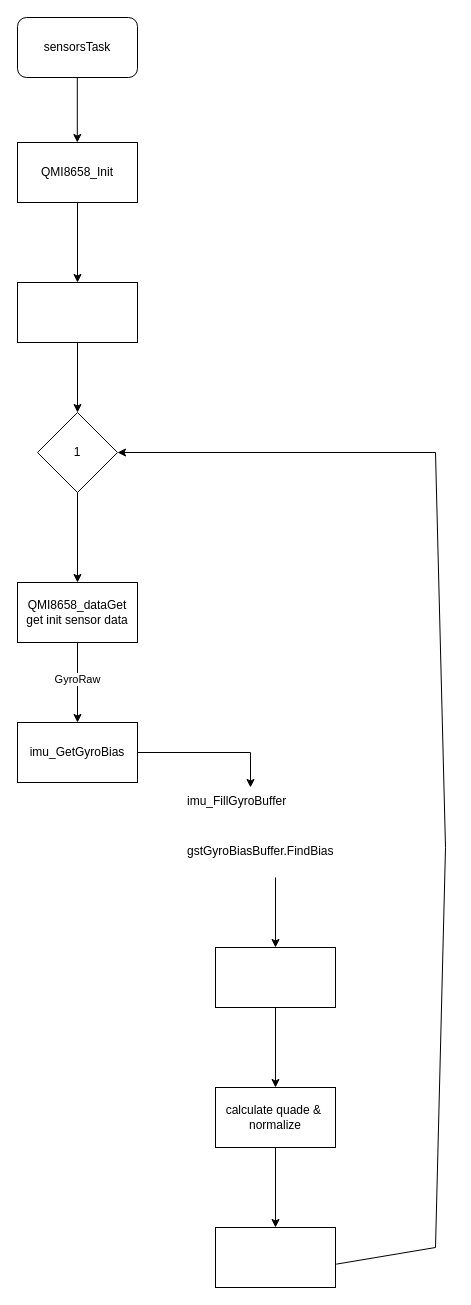
The diagram is 471 pixels wide and 1305 high, and some of its shapes have lost their labels. Each missing label, with the box of its shape:
calculate rotate array & calculate oula angle: (214, 1226, 336, 1288)
Intgrate error compensate gyro data: (214, 946, 336, 1008)
QMC5883_Init: (16, 282, 138, 342)
